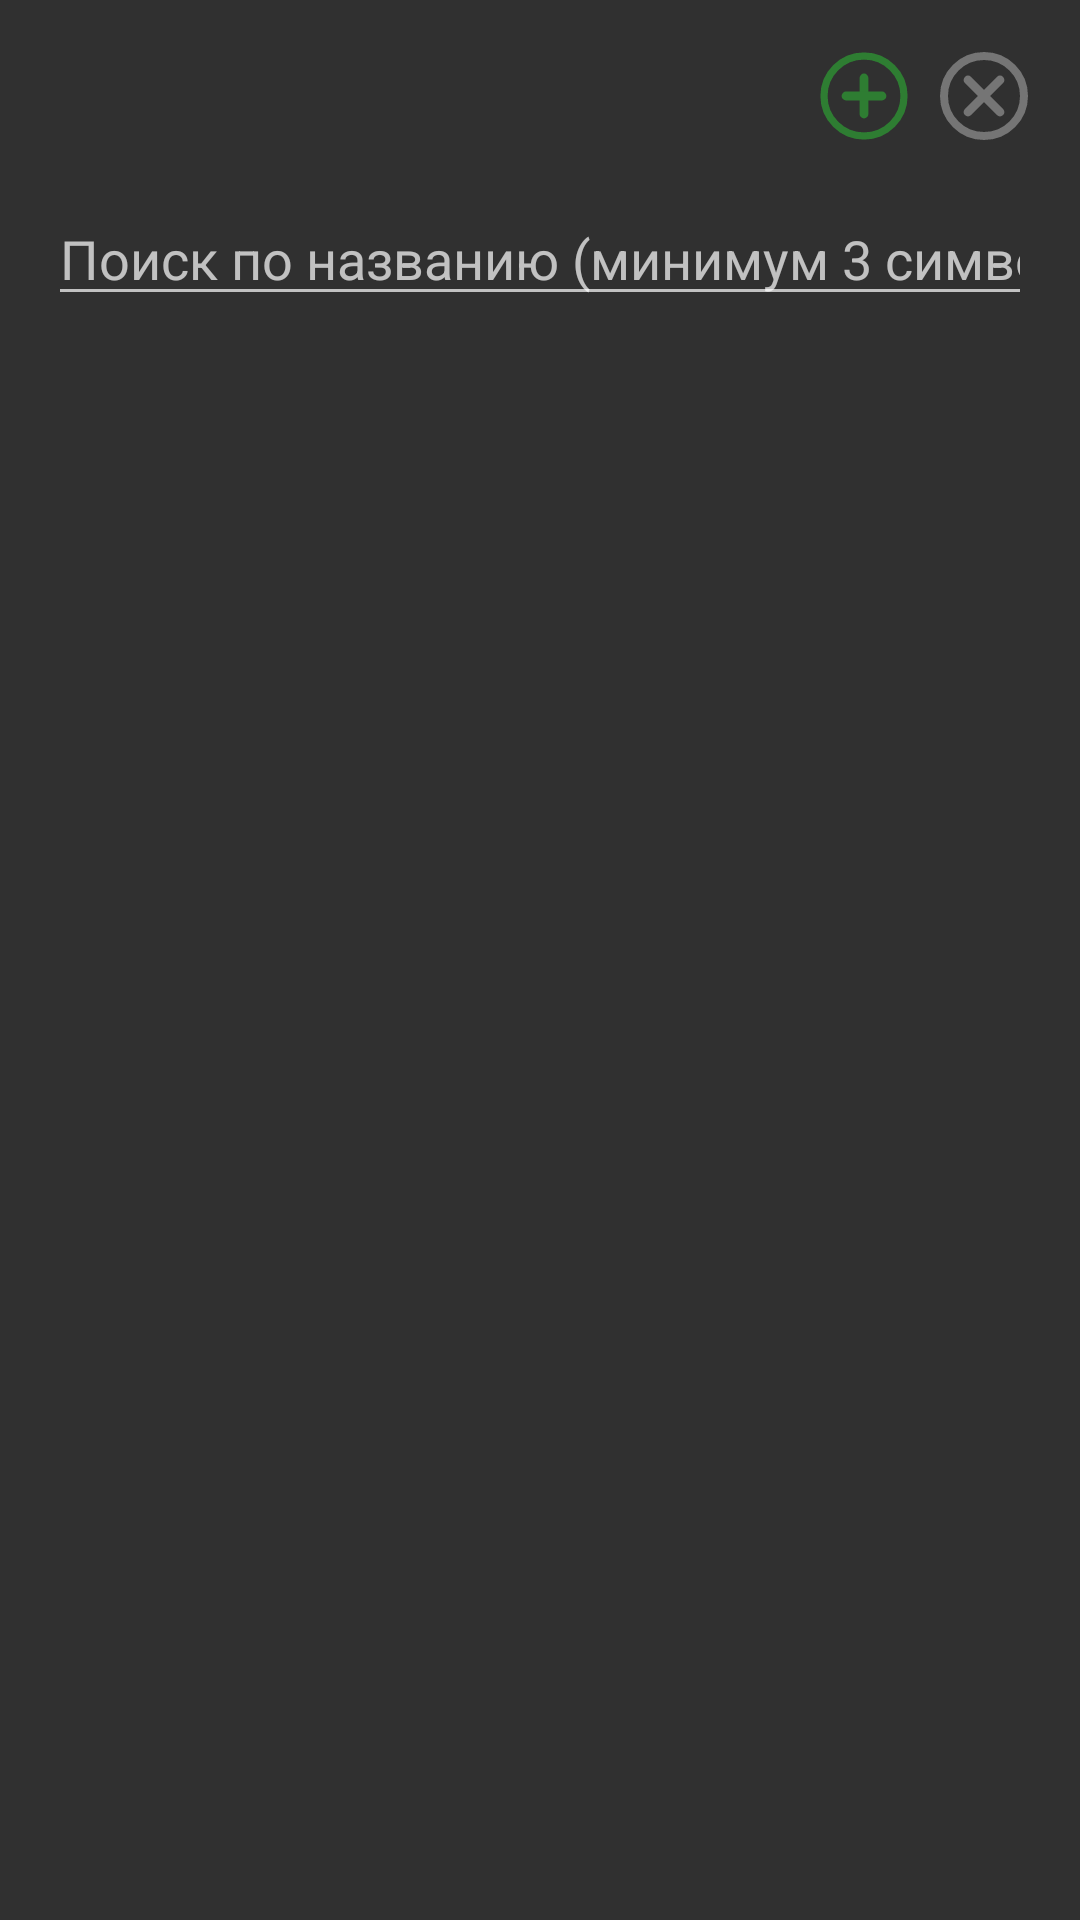

Named icons in this screenshot (1080*1920) and their centers, (x,y):
Добавить запись здоровья: (864,96)
